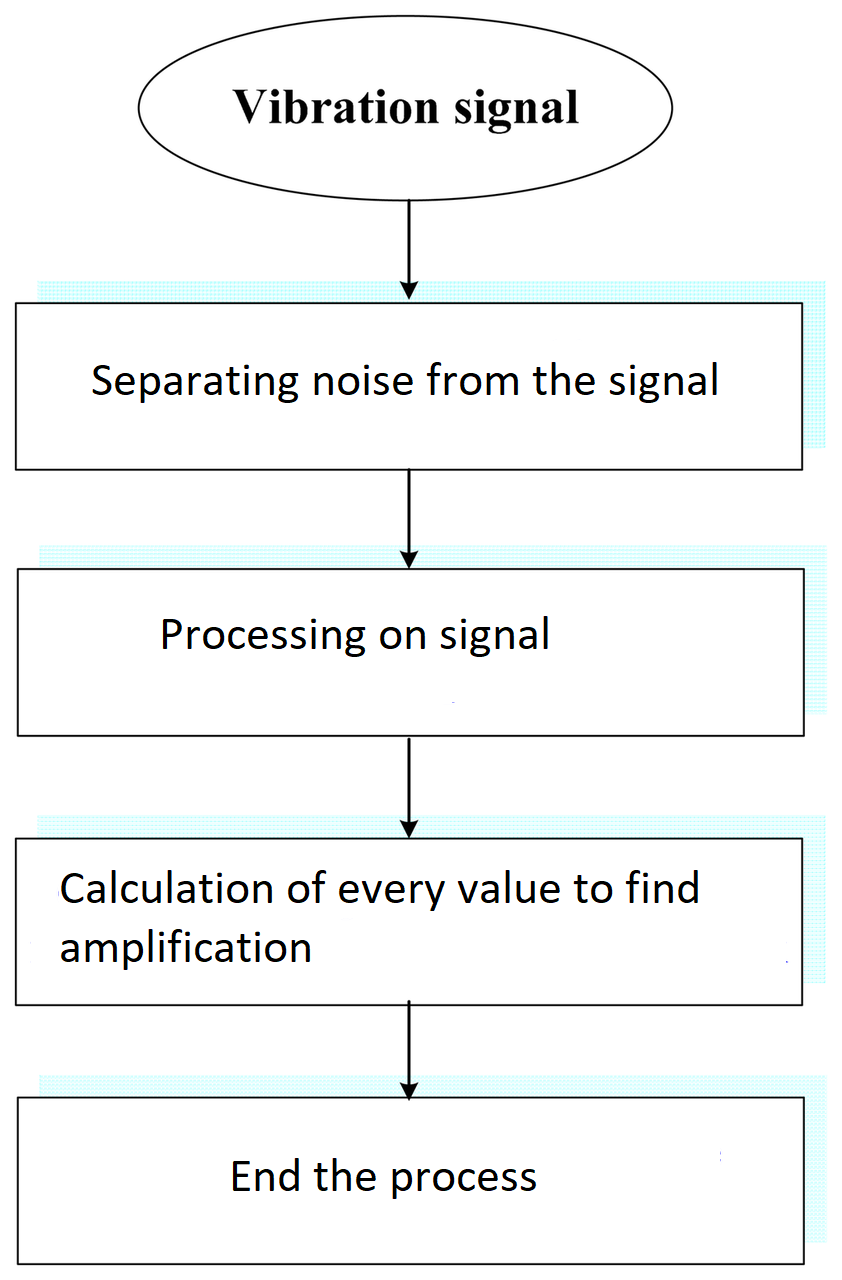arrow: (390, 199, 427, 309), (392, 465, 425, 570), (390, 994, 423, 1098), (394, 739, 421, 841)
process: (6, 291, 811, 479), (11, 559, 815, 747), (8, 1088, 811, 1272), (8, 831, 811, 1014)
terminator: (133, 5, 686, 213)
text: (53, 861, 708, 978), (84, 356, 727, 414), (151, 608, 555, 665), (227, 77, 586, 140), (223, 1153, 541, 1204)
